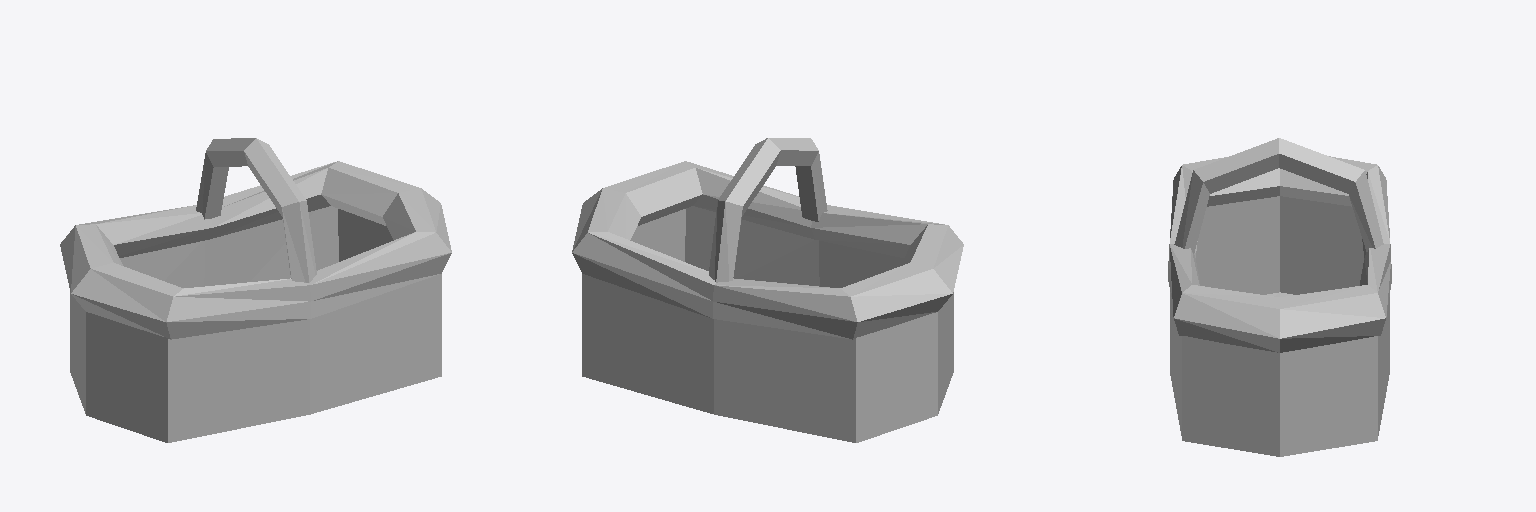
File: misc06.obj
3 views of the same model, side by side, from view 1: azimuth 30°, elevation 25°; view 2: azimuth 150°, elevation 25°; view 3: azimuth 270°, elevation 25° (orthographic).
Visible parts, largest first — view 1: misc06; view 2: misc06; view 3: misc06.
Boxes of the visible parts, x1=… form: misc06: x1=60, y1=138, x2=451, y2=442; misc06: x1=572, y1=138, x2=963, y2=442; misc06: x1=1168, y1=138, x2=1391, y2=456.
Bounding box in the file's own units: 0.0143 × 0.0087 × 0.0075.